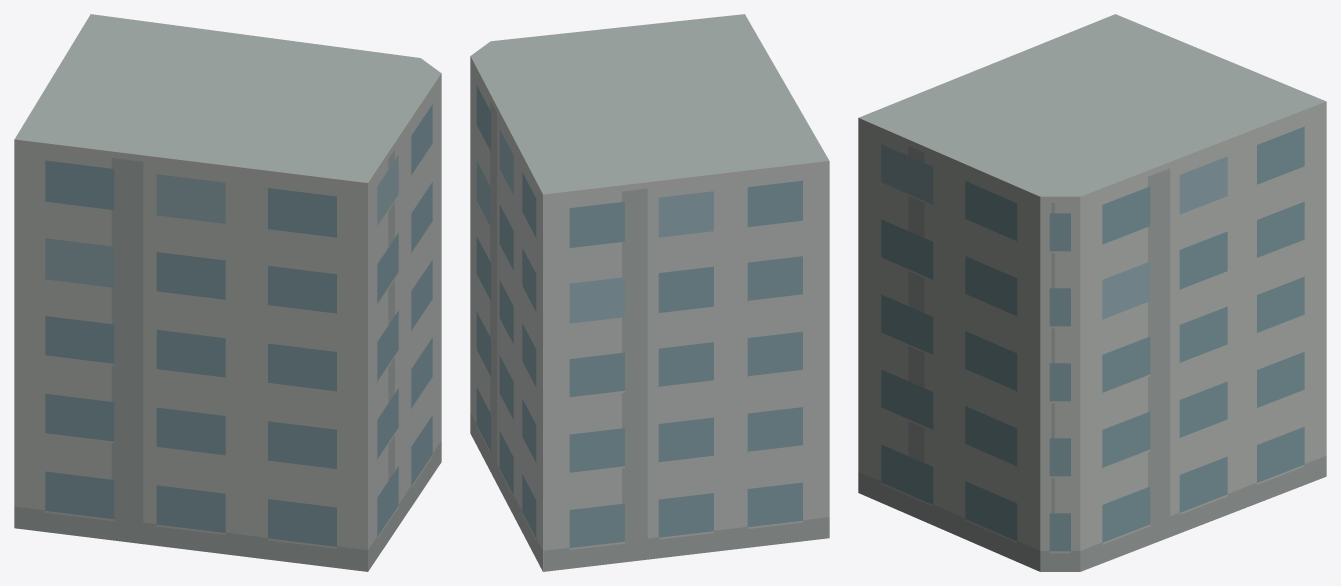
Rendered from survey-upis-32676121.glb.
The picture shows the model from 3 angles, left to right: view 1: azimuth 30°, elevation 25°; view 2: azimuth 150°, elevation 25°; view 3: azimuth 270°, elevation 25°; orthographic projection. The views are drawn at different scales.
Parts seen in each view (by area): view 1: survey-upis-32676121.tmp; view 2: survey-upis-32676121.tmp; view 3: survey-upis-32676121.tmp.
Boxes of the visible parts, <box> form: survey-upis-32676121.tmp: <box>14,14,441,571</box>; survey-upis-32676121.tmp: <box>470,14,829,571</box>; survey-upis-32676121.tmp: <box>858,14,1326,571</box>.
Size of the model in its own units: 15.27 by 14.6 by 16.52.
